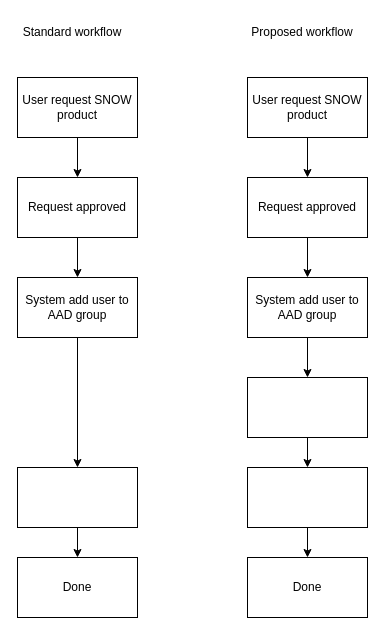
Image size: 385x635. Some labels were removed from this diagram. Here are the shapes that lost their labels. From the top down, the centre of each, then its label:
At [307,407]: "DSASCN admins manually provision extra access to the user".
At [77,497]: "System automatically close the SNOW request".
At [307,497]: "DSASCN admins close the SNOW request".
